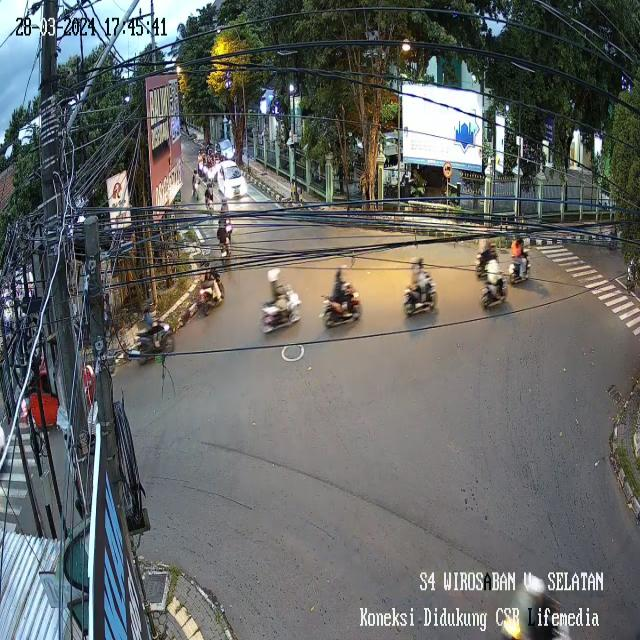car: (219, 159, 252, 201), (218, 134, 240, 160)
motorcycle: (262, 278, 308, 342), (320, 277, 368, 335), (134, 310, 178, 369), (402, 266, 441, 327), (197, 268, 227, 319), (473, 236, 505, 278), (510, 232, 533, 290), (481, 273, 511, 315), (219, 205, 237, 239), (218, 234, 232, 277), (190, 166, 202, 202), (202, 190, 214, 221), (200, 152, 210, 182), (206, 162, 216, 190), (196, 146, 201, 178)
